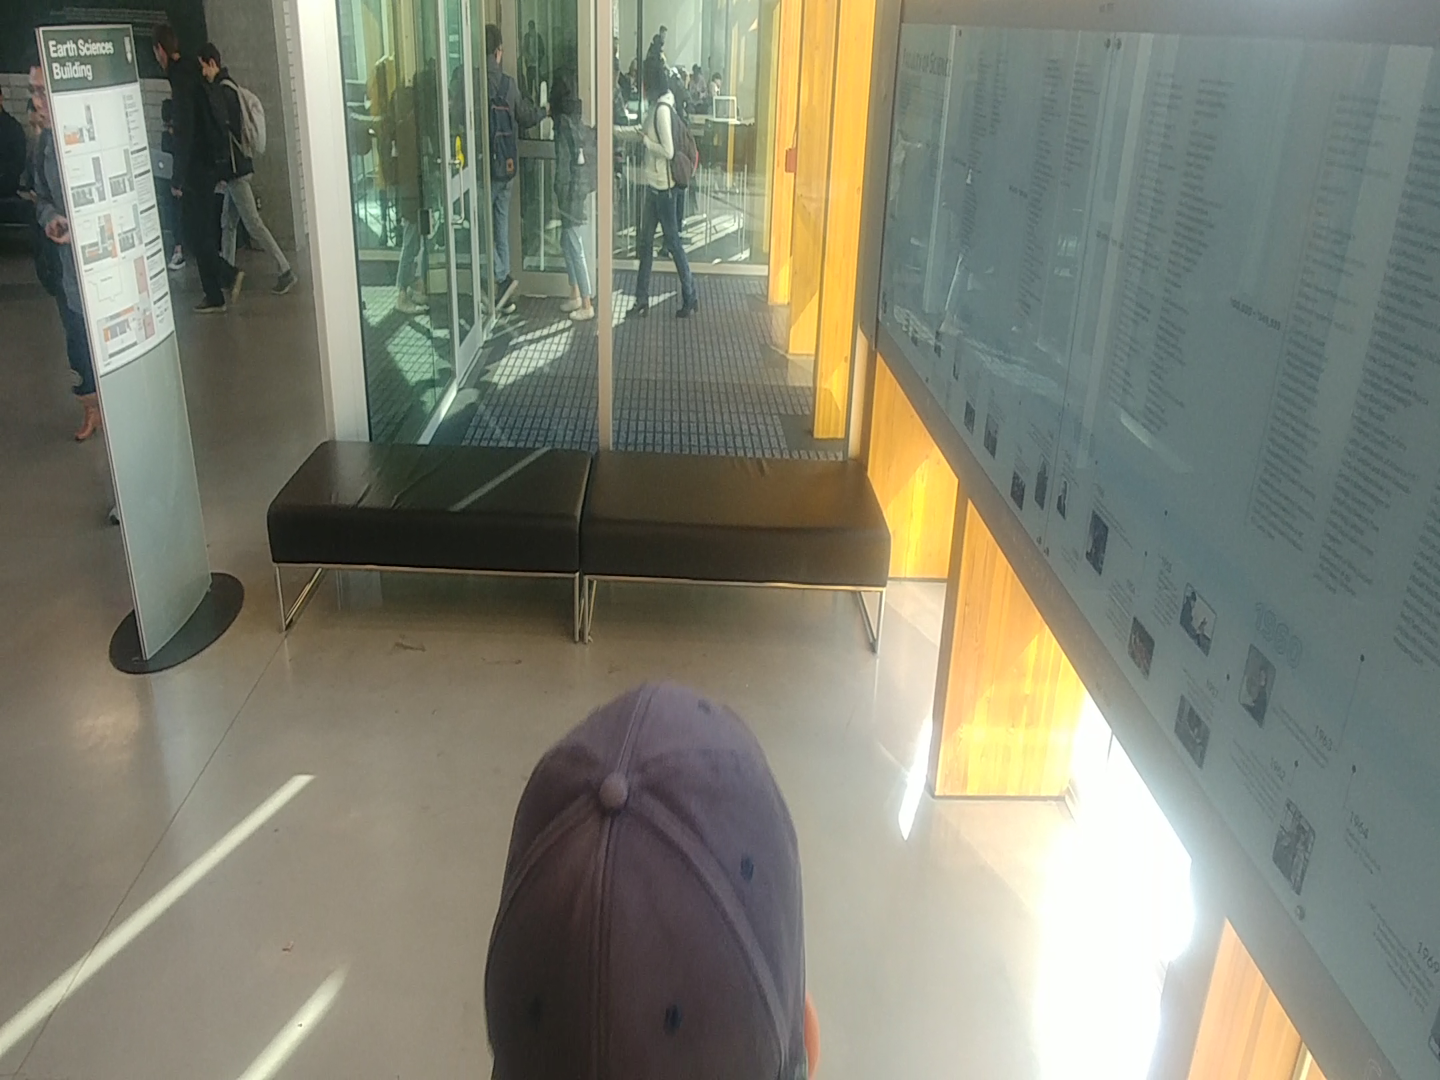face: (631, 49, 685, 103), (538, 65, 586, 121), (141, 20, 190, 72), (187, 36, 233, 85)
human: (137, 18, 256, 317), (190, 34, 309, 306), (626, 48, 705, 326), (534, 61, 605, 329)
